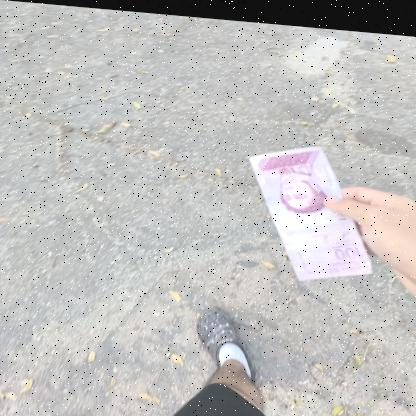one_hundred-front-vef: (248, 137, 372, 281)
